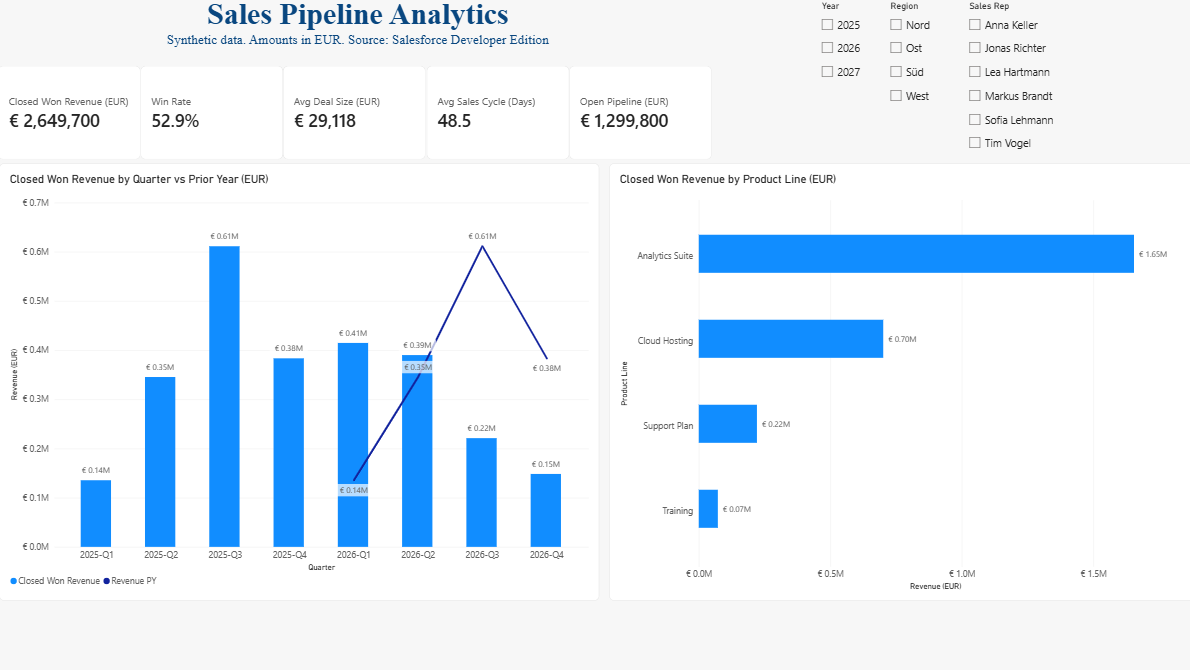

The dashboard page shown, as its layout file describes it:
{"tool":"powerbi","page":{"name":"Executive Overview","canvas":[1920,1080],"ordinal":0},"visuals":[{"type":"textbox","box":[10,0,1131.7,110],"z":0},{"type":"slicer","fields":{"Values":["DimDate.Year"]},"box":[1310,6.7,110,260],"z":1000},{"type":"slicer","fields":{"Values":["DimAccount.Region"]},"box":[1420,6.7,126.7,260],"z":2000},{"type":"slicer","fields":{"Values":["DimRep.Sales Rep"]},"box":[1546.7,6.7,170,260],"z":3000},{"type":"cardVisual","fields":{"Data":["_Measures.Closed Won Revenue"]},"box":[0,110,228.3,150],"z":4000},{"type":"cardVisual","fields":{"Data":["_Measures.Win Rate"]},"box":[228.6,110,228,150],"z":5000},{"type":"cardVisual","fields":{"Data":["_Measures.Avg Deal Size (EUR)"]},"box":[456.8,110,228,150],"z":6000},{"type":"cardVisual","fields":{"Data":["_Measures.Avg Sales Cycle Days"]},"box":[685.1,110,228,150],"z":7000},{"type":"cardVisual","fields":{"Data":["_Measures.Open Pipeline Display"]},"box":[913.3,110,228,150],"z":8000},{"type":"lineClusteredColumnComboChart","title":"Closed Won Revenue by Quarter vs Prior Year (EUR)","fields":{"Category":["DimDate.YearQuarter"],"Y":["_Measures.Closed Won Revenue"],"Y2":["_Measures.Revenue PY"]},"box":[2,266,960,700],"z":9000},{"type":"clusteredBarChart","title":"Closed Won Revenue by Product Line (EUR)","fields":{"Category":["DimProduct.Product Line"],"Y":["_Measures.Closed Won Revenue"]},"box":[978,266,940,700],"z":10000}]}

Visuals, with their boxes in screenshot pixels (x1, y1, x2, y2), scaled from the page's 1920x1080 canvas onto the 1190x670 screenshot:
textbox: [6,0,708,68]
slicer - DimDate.Year: [812,4,880,165]
slicer - DimAccount.Region: [880,4,959,165]
slicer - DimRep.Sales Rep: [959,4,1064,165]
cardVisual - _Measures.Closed Won Revenue: [0,68,141,161]
cardVisual - _Measures.Win Rate: [142,68,283,161]
cardVisual - _Measures.Avg Deal Size (EUR): [283,68,424,161]
cardVisual - _Measures.Avg Sales Cycle Days: [425,68,566,161]
cardVisual - _Measures.Open Pipeline Display: [566,68,707,161]
"Closed Won Revenue by Quarter vs Prior Year (EUR)" lineClusteredColumnComboChart: [1,165,596,599]
"Closed Won Revenue by Product Line (EUR)" clusteredBarChart: [606,165,1189,599]
